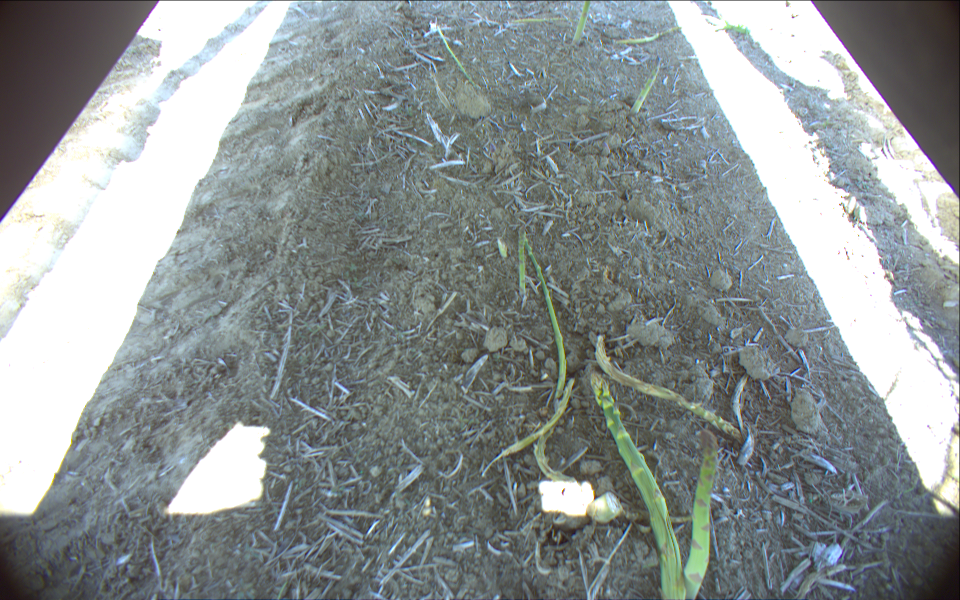aspa: (581, 371, 689, 600), (681, 427, 719, 600), (627, 54, 665, 118), (567, 1, 592, 47)
